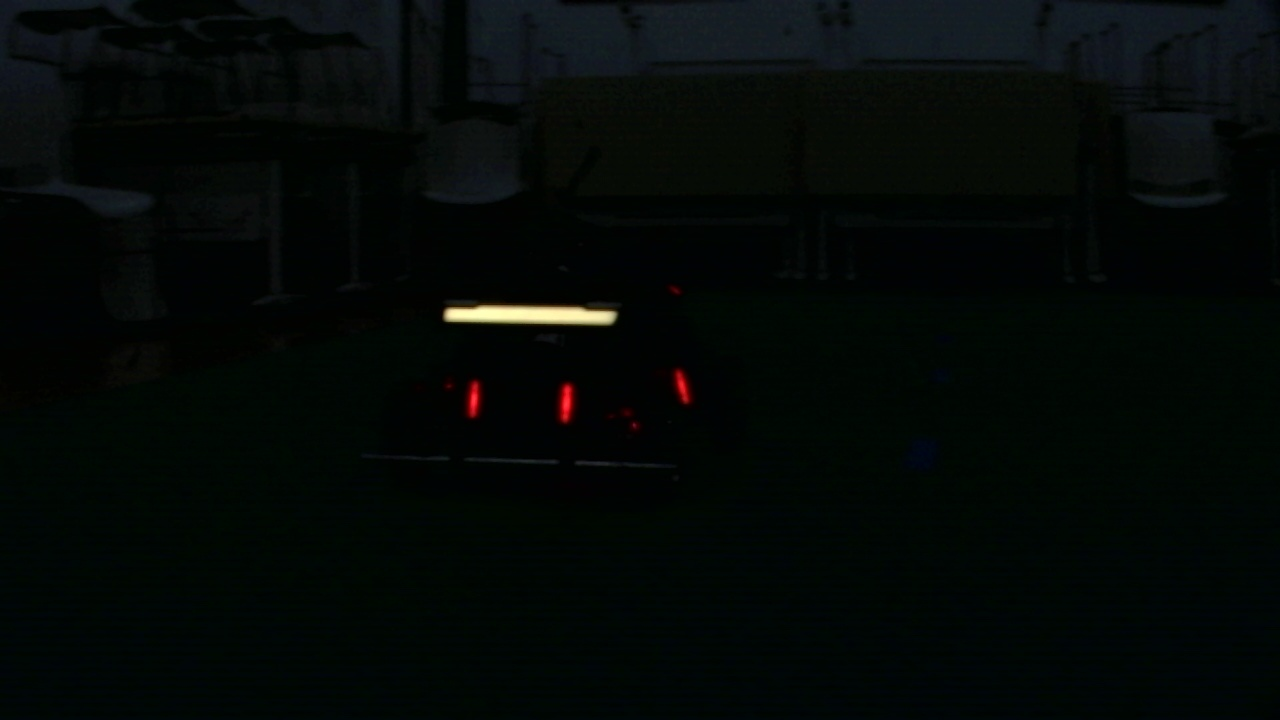lamp: (674, 363, 692, 401), (559, 380, 576, 420), (466, 375, 480, 419)
pair1: (468, 379, 571, 417)
